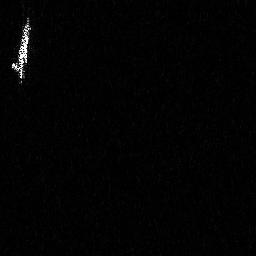ship: (9, 16, 32, 84)
